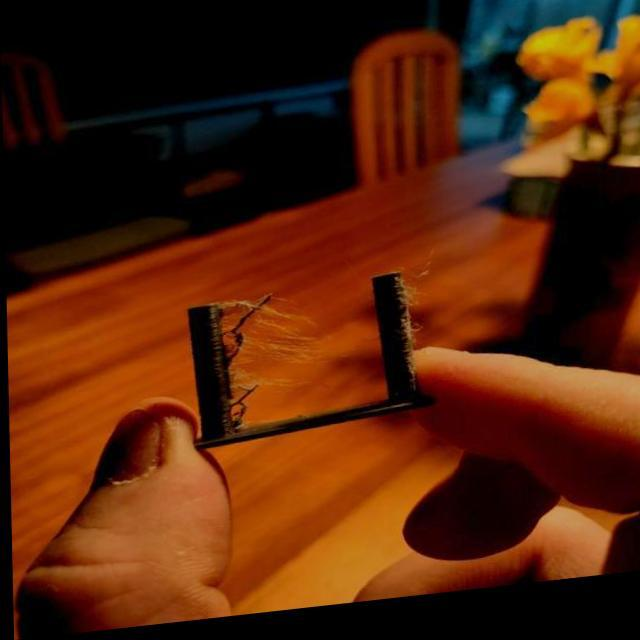stringing: (215, 303, 318, 376), (222, 392, 261, 429)
